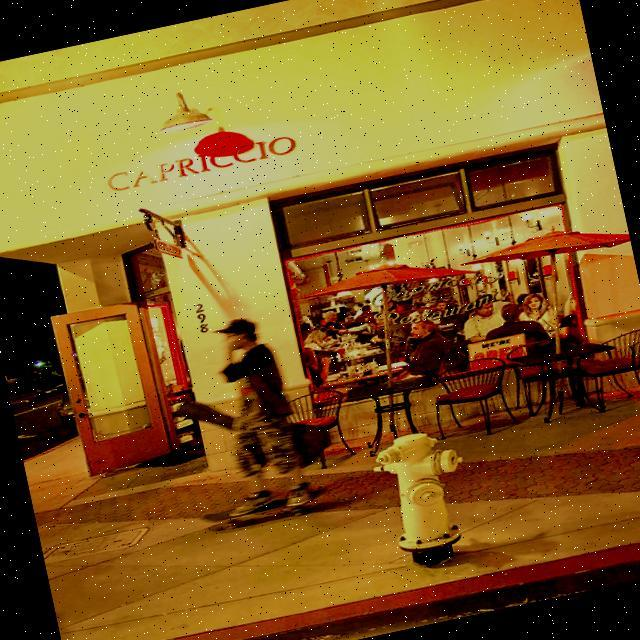fire_hydrant: (364, 422, 482, 574)
